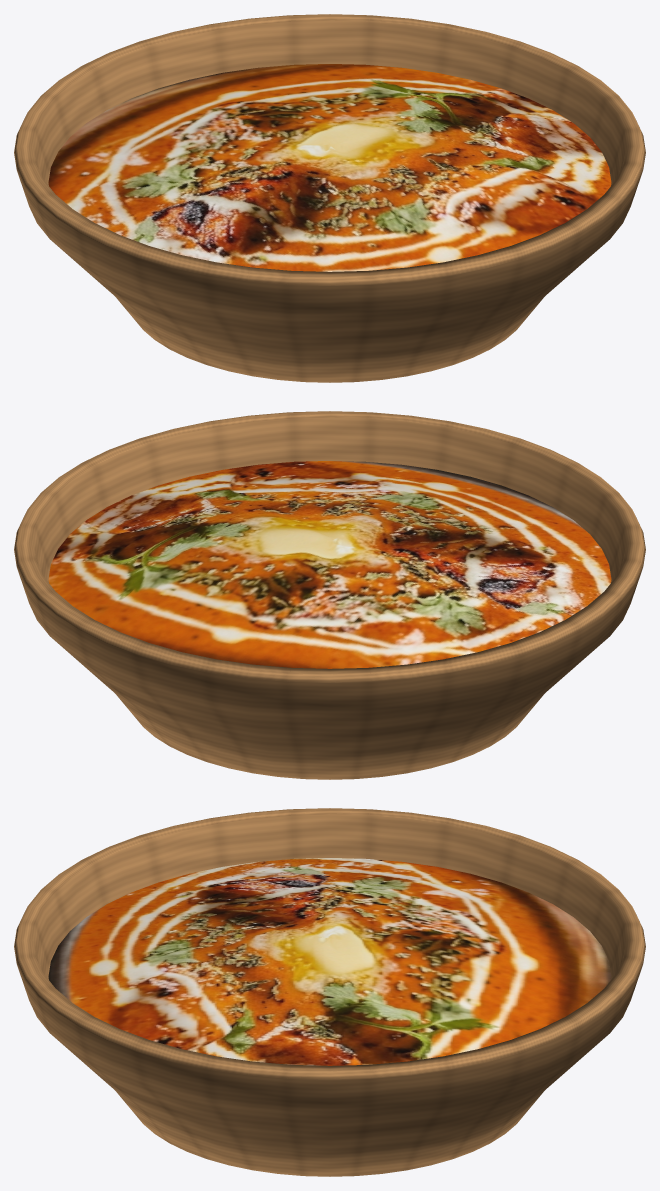
File: butter-chicken.glb
3 views of the same model, one above another, from view 1: azimuth 30°, elevation 25°; view 2: azimuth 150°, elevation 25°; view 3: azimuth 270°, elevation 25° (orthographic).
Visible parts, largest first — view 1: FoodMound, BambooBowl; view 2: FoodMound, BambooBowl; view 3: FoodMound, BambooBowl.
Boxes of the visible parts, box(x1,y1,x2,y2) form: FoodMound: box(48, 64, 611, 271); BambooBowl: box(14, 14, 645, 382); FoodMound: box(48, 461, 611, 668); BambooBowl: box(14, 411, 645, 779); FoodMound: box(48, 858, 611, 1065); BambooBowl: box(14, 808, 645, 1176).
Size of the model in its own units: 0.22 by 0.0607 by 0.22.
Materials: 2 (2 with a texture image).
